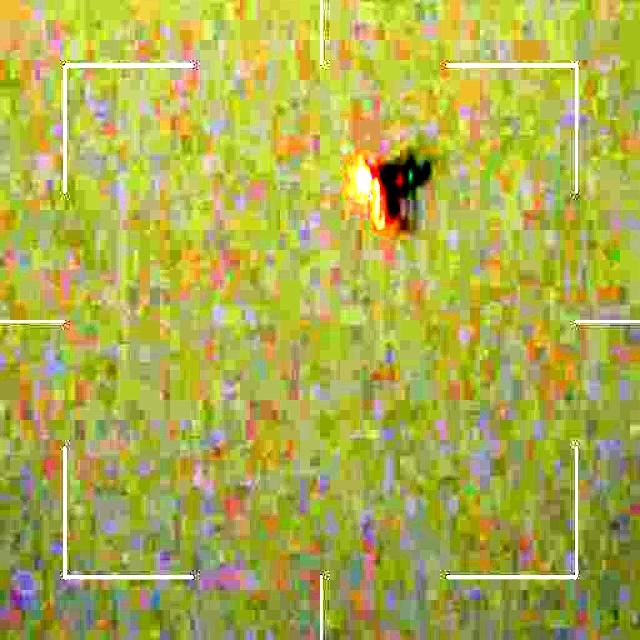bird: (345, 145, 442, 239)
